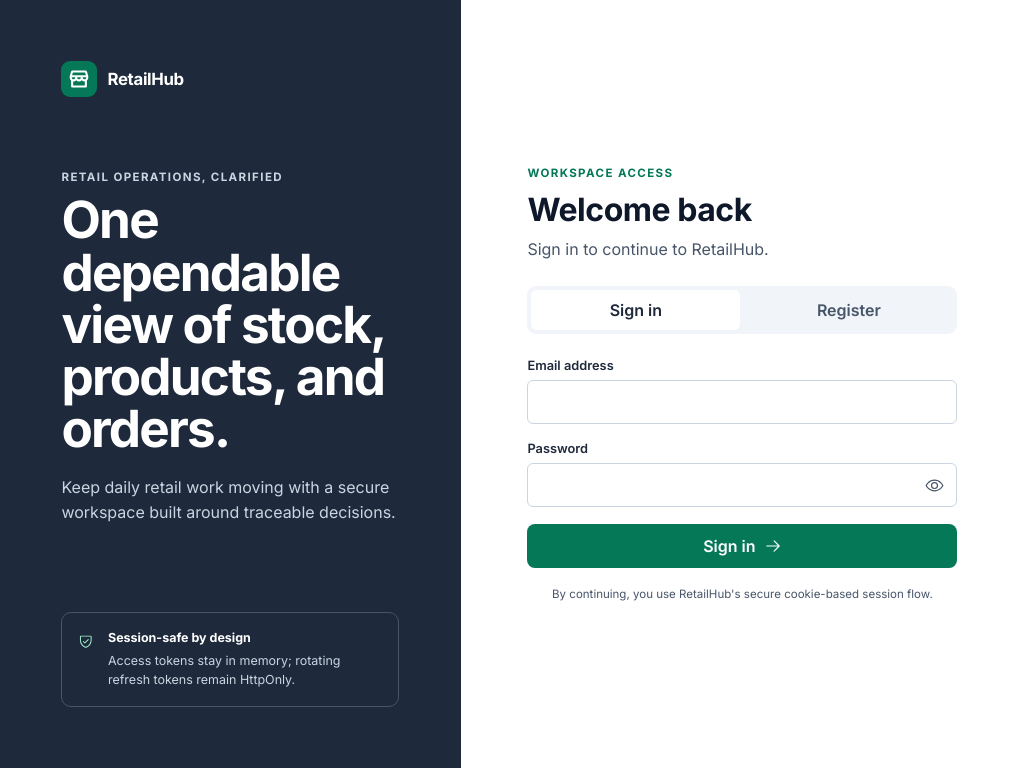
Test: LoginPage › shows accessible validation beside required fields
Click the button "Sign in" below "Password": coordinates (742, 546) top-left (527, 524), bottom-right (957, 568)
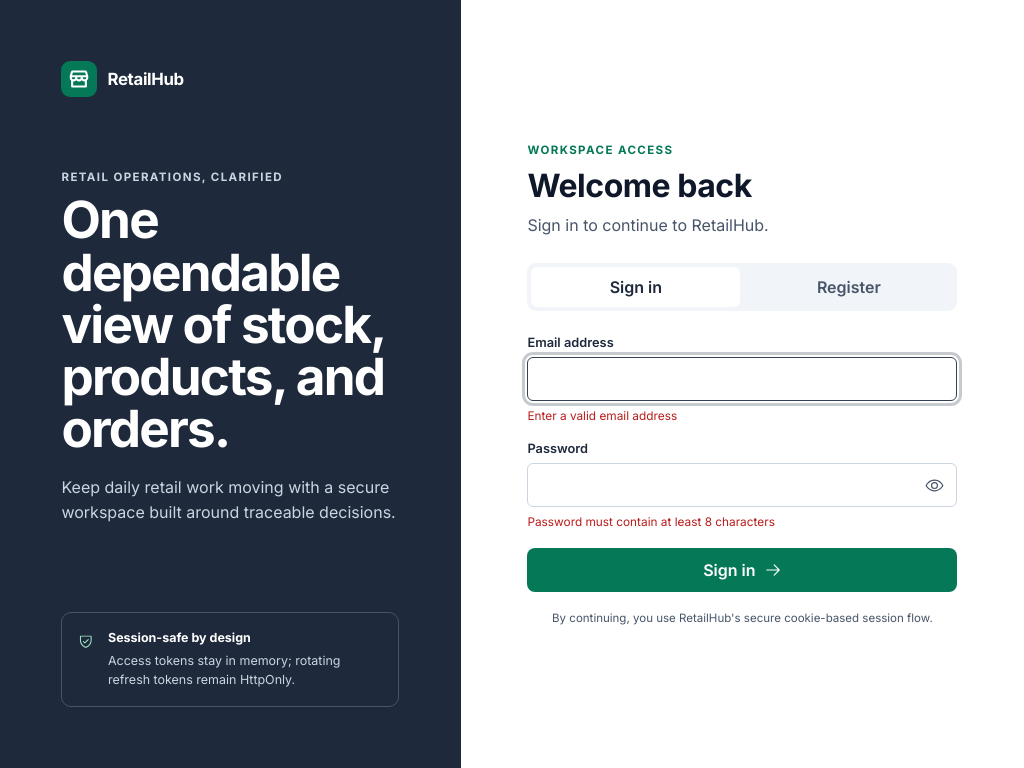
Check: the text "Enter a valid email address" is shown, box top-left (527, 409), bottom-right (677, 423)
Check: the text "Password must contain at least 8 characters" is shown, box top-left (527, 515), bottom-right (775, 529)
